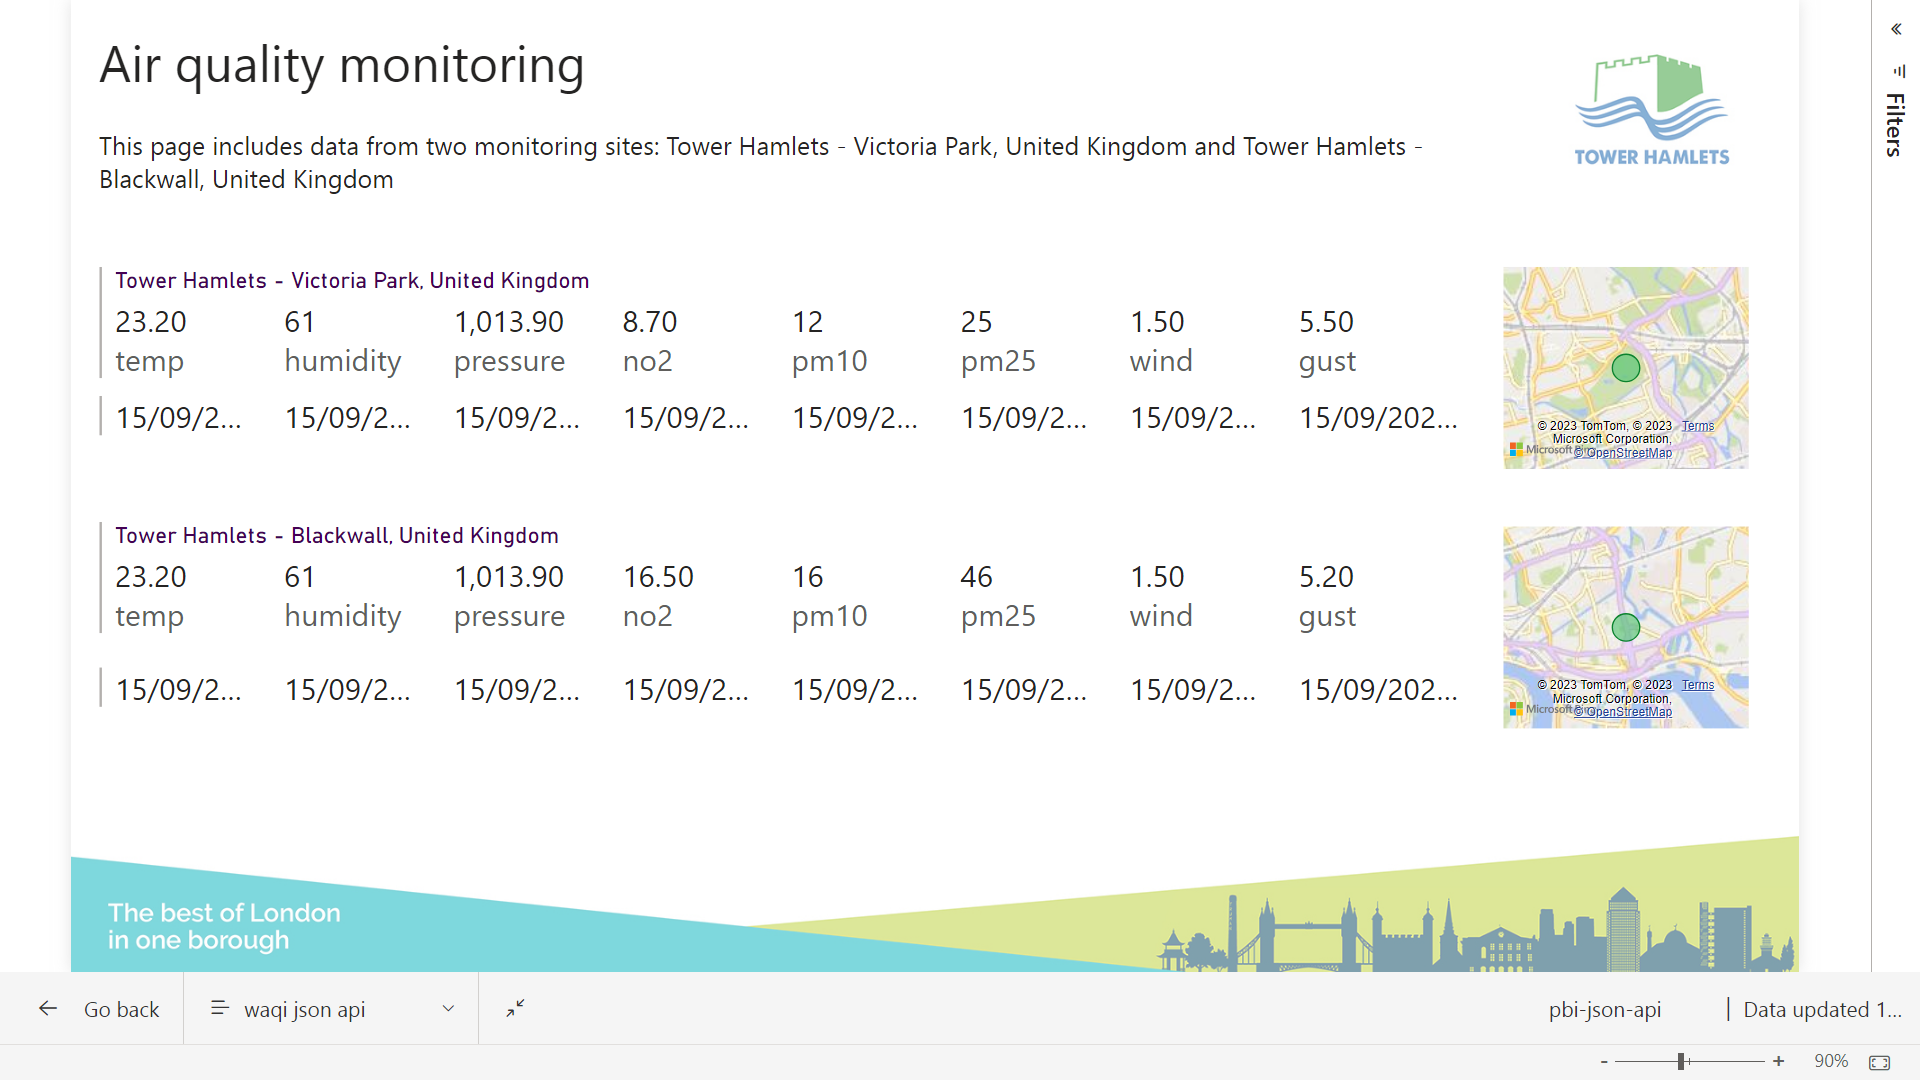

The dashboard page shown, as its layout file describes it:
{"tool":"powerbi","page":{"name":"waqi json api","canvas":[1280,720],"ordinal":0},"visuals":[{"type":"group","id":"g1","title":"Group 1","box":[16,192,1024,144],"z":0},{"type":"multiRowCard","fields":{"Values":["waqi api - victoria park.rxs.obs.msg.iaqi.t.t","waqi api - victoria park.rxs.obs.msg.iaqi.h.t","waqi api - victoria park.rxs.obs.msg.iaqi.p.t","waqi api - victoria park.rxs.obs.msg.iaqi.no2.t","waqi api - victoria park.rxs.obs.msg.iaqi.pm10.t","waqi api - victoria park.rxs.obs.msg.iaqi.pm25.t","waqi api - victoria park.rxs.obs.msg.iaqi.w.t","waqi api - victoria park.rxs.obs.msg.iaqi.wg.t"]},"box":[16,288,1024,48],"z":0,"group":"g1"},{"type":"multiRowCard","fields":{"Values":["waqi api - blackwall.rxs.obs.msg.iaqi.t.t","waqi api - blackwall.rxs.obs.msg.iaqi.h.t","waqi api - blackwall.rxs.obs.msg.iaqi.p.t","waqi api - blackwall.rxs.obs.msg.iaqi.no2.t","waqi api - blackwall.rxs.obs.msg.iaqi.pm10.t","waqi api - blackwall.rxs.obs.msg.iaqi.pm25.t","waqi api - blackwall.rxs.obs.msg.iaqi.w.t","waqi api - blackwall.rxs.obs.msg.iaqi.wg.t"]},"box":[16,489.1,1024,54],"z":0,"group":"g2"},{"type":"multiRowCard","fields":{"Values":["waqi api - victoria park.rxs.obs.msg.city.name","waqi api - victoria park.temp","waqi api - victoria park.humidity","waqi api - victoria park.pressure","waqi api - victoria park.no2","waqi api - victoria park.pm10","waqi api - victoria park.pm25","waqi api - victoria park.wind","waqi api - victoria park.gust"]},"box":[16,192,1024,96],"z":1000,"group":"g1"},{"type":"group","id":"g2","title":"Group 1","box":[16,381.1,1024,128],"z":1000},{"type":"multiRowCard","fields":{"Values":["waqi api - blackwall.rxs.obs.msg.city.name","waqi api - blackwall.temp","waqi api - blackwall.humidity","waqi api - blackwall.pressure","waqi api - blackwall.no2","waqi api - blackwall.pm10","waqi api - blackwall.pm25","waqi api - blackwall.wind","waqi api - blackwall.gust"]},"box":[16,381.1,1024,108],"z":1000,"group":"g2"},{"type":"textbox","box":[16,16,1056,160],"z":2000},{"type":"map","fields":{"Y":["waqi api - blackwall.latitude"],"X":["waqi api - blackwall.longitude"],"Size":["Sum(waqi api - blackwall.no2)"]},"box":[1056,384,192,160],"z":3000},{"type":"map","fields":{"Y":["waqi api - victoria park.latitude"],"X":["waqi api - victoria park.longitude"],"Size":["Sum(waqi api - victoria park.no2)"]},"box":[1056,192,192,160],"z":3001}]}

Visuals, with their boxes on the page's 1280x720 design canvas (x1, y1, x2, y2). These are canvas units, not pixel positions in the 1920x1080 screenshot, which may show the page scaled, cropped or inside an application window:
"Group 1" group: [16,192,1040,336]
multiRowCard - waqi api - victoria park.rxs.obs.msg.iaqi.t.t x waqi api - victoria park.rxs.obs.msg.iaqi.h.t: [16,288,1040,336]
multiRowCard - waqi api - blackwall.rxs.obs.msg.iaqi.t.t x waqi api - blackwall.rxs.obs.msg.iaqi.h.t: [16,489,1040,543]
multiRowCard - waqi api - victoria park.rxs.obs.msg.city.name x waqi api - victoria park.temp: [16,192,1040,288]
"Group 1" group: [16,381,1040,509]
multiRowCard - waqi api - blackwall.rxs.obs.msg.city.name x waqi api - blackwall.temp: [16,381,1040,489]
textbox: [16,16,1072,176]
map - waqi api - blackwall.latitude x waqi api - blackwall.longitude: [1056,384,1248,544]
map - waqi api - victoria park.latitude x waqi api - victoria park.longitude: [1056,192,1248,352]
